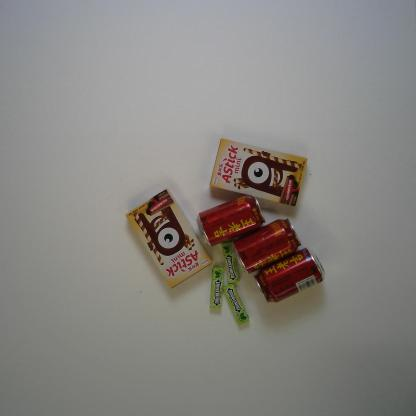Dessert: (124, 186, 214, 293), (206, 137, 310, 209)
Drink: (251, 246, 327, 305), (232, 216, 302, 275), (195, 194, 266, 249)
Gum: (222, 280, 251, 328), (220, 240, 241, 288), (209, 264, 225, 314)
